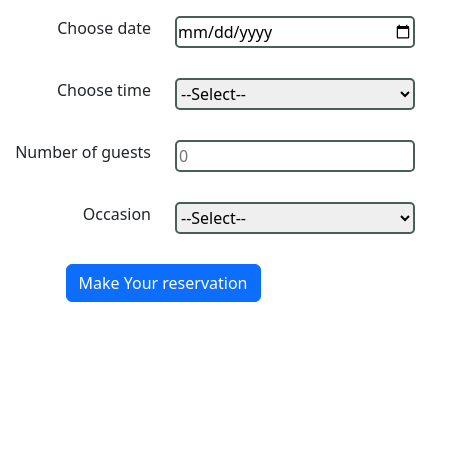
Test: Booking form › error messages should be displayed when form submitted with no values
Step 1. Click the button → (163, 283), box x1=66 y1=264 x2=260 y2=302
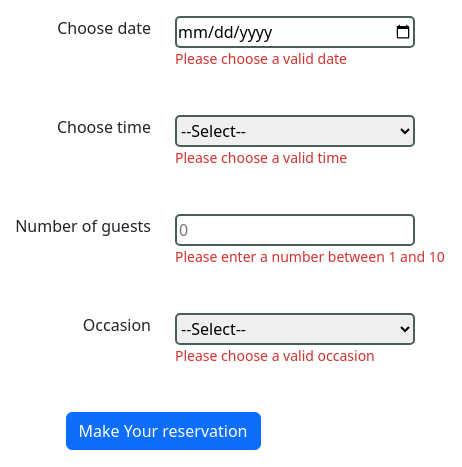
Now the text "Please choose a valid date" is shown, box x1=175 y1=49 x2=347 y2=68
Now the text "Please choose a valid time" is shown, box x1=175 y1=148 x2=347 y2=167
Now the text "Please enter a number between 1 and 10" is shown, box x1=175 y1=247 x2=445 y2=266
